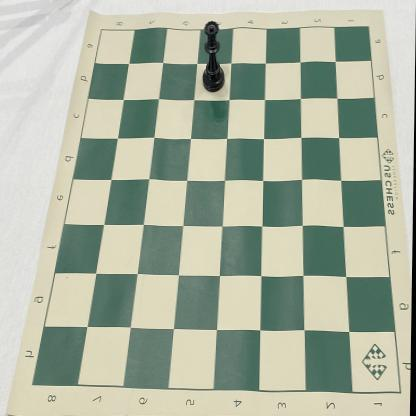black-queen: (202, 19, 226, 93)
